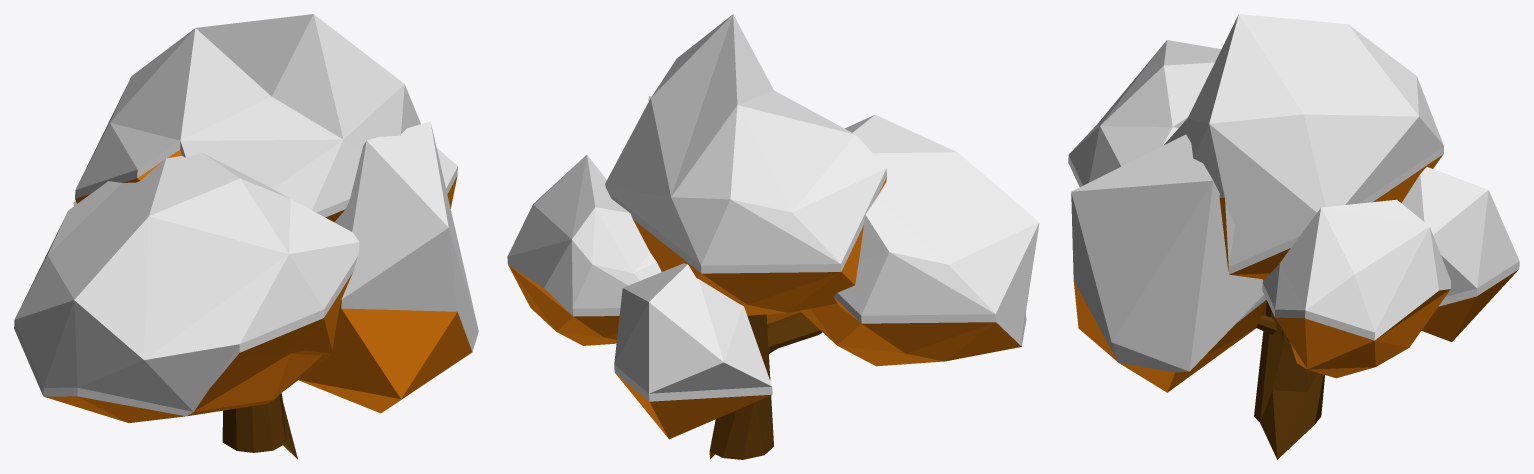
File: Bush#13_Snow.fbx
3 views of the same model, side by side, from view 1: azimuth 30°, elevation 25°; view 2: azimuth 150°, elevation 25°; view 3: azimuth 270°, elevation 25° (orthographic). The views are drawn at different scales.
Parts seen in each view (by area): view 1: Bush#13_Snow; view 2: Bush#13_Snow; view 3: Bush#13_Snow.
Part boxes in pixels (bbox=[...]): Bush#13_Snow: bbox=[14, 14, 478, 459]; Bush#13_Snow: bbox=[507, 14, 1039, 459]; Bush#13_Snow: bbox=[1068, 14, 1519, 459].
Bounding box in the file's own units: 206 × 194 × 178.
